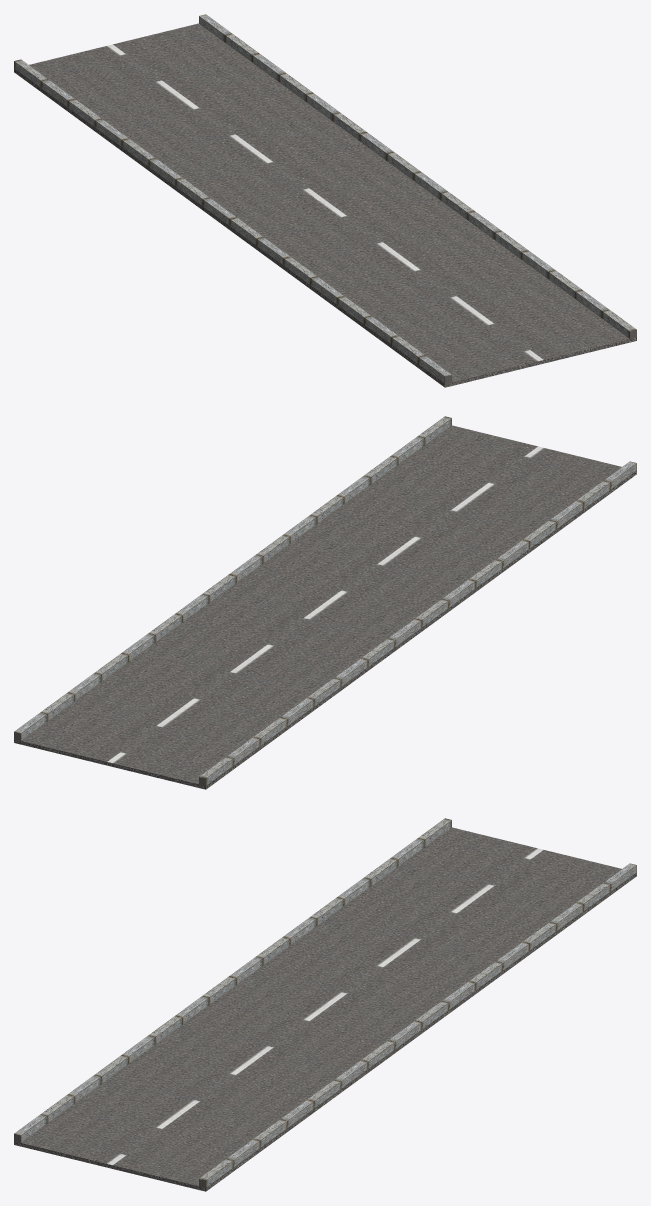
The model's file is road.obj.
The picture shows the model from 3 angles, top to bottom: view 1: azimuth 30°, elevation 25°; view 2: azimuth 150°, elevation 25°; view 3: azimuth 330°, elevation 25°; orthographic projection.
Visible parts, largest first — view 1: Cube; view 2: Cube; view 3: Cube.
Boxes of the visible parts, x1,y1,x2,y2 form: Cube: [14, 14, 636, 387]; Cube: [14, 416, 636, 789]; Cube: [14, 818, 636, 1191].
Size of the model in its own units: 5.4 by 0.3 by 21.
2 materials, 2 textured.
